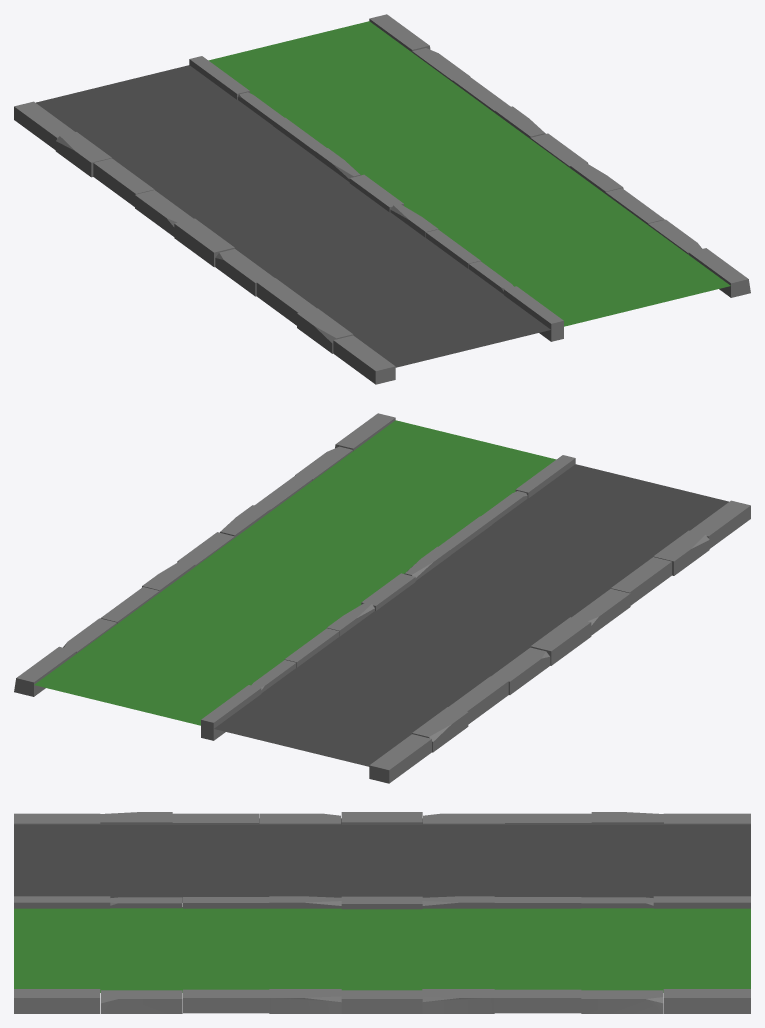
The model's file is SM_pedestrian_walk_suburbs_04.fbx.
3 views of the same model, one above another, from view 1: azimuth 30°, elevation 25°; view 2: azimuth 150°, elevation 25°; view 3: azimuth 270°, elevation 25° (orthographic).
Parts seen in each view (by area): view 1: Box5790; view 2: Box5790; view 3: Box5790.
Part boxes in pixels (x1,y1,x2,y2): Box5790: [14, 14, 750, 384]; Box5790: [14, 413, 750, 783]; Box5790: [14, 812, 750, 1013].
Size of the model in its own units: 211 by 9.66 by 351.
